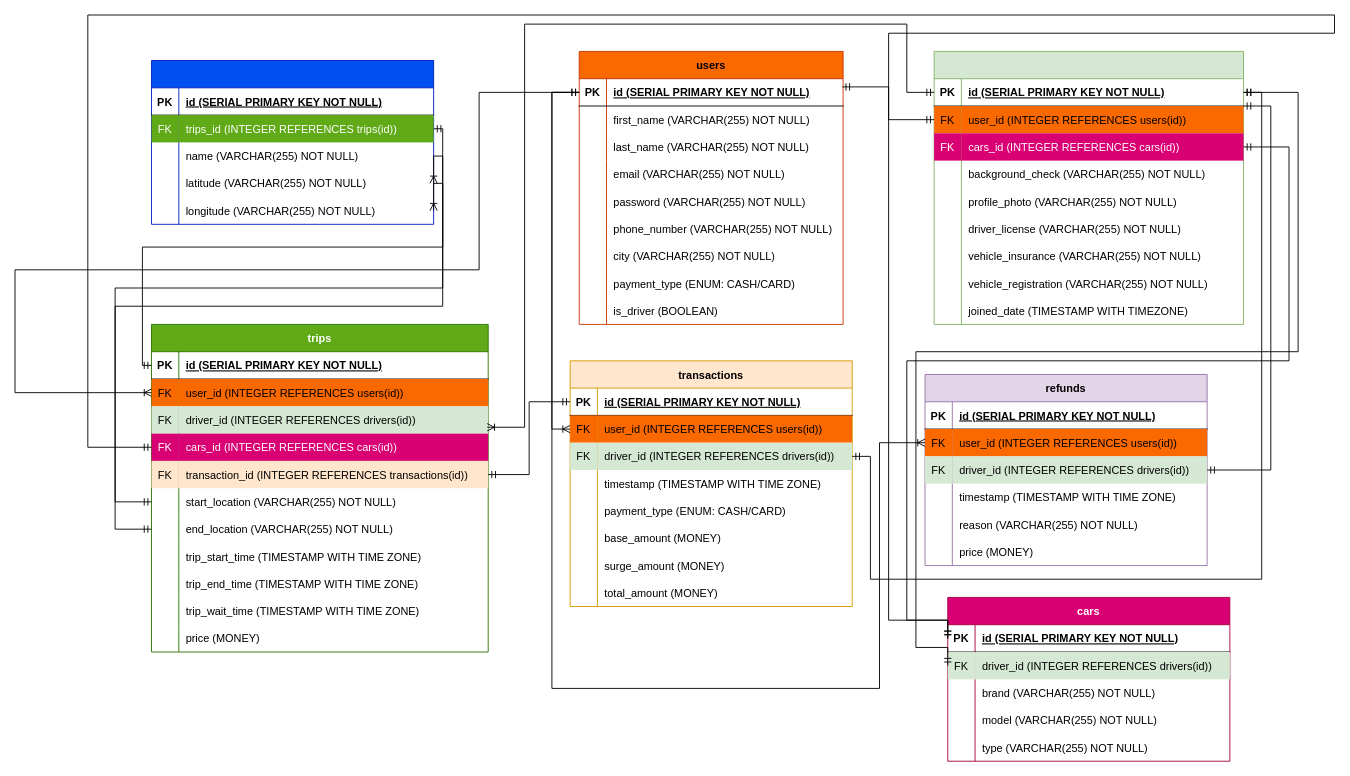
Image size: 1350x776. Some labels were removed from this diagram. Here are the shapes that lost their labels. From the top down, the box of each, then its label:
(151, 60, 434, 224): locations
(933, 51, 1244, 324): drivers
